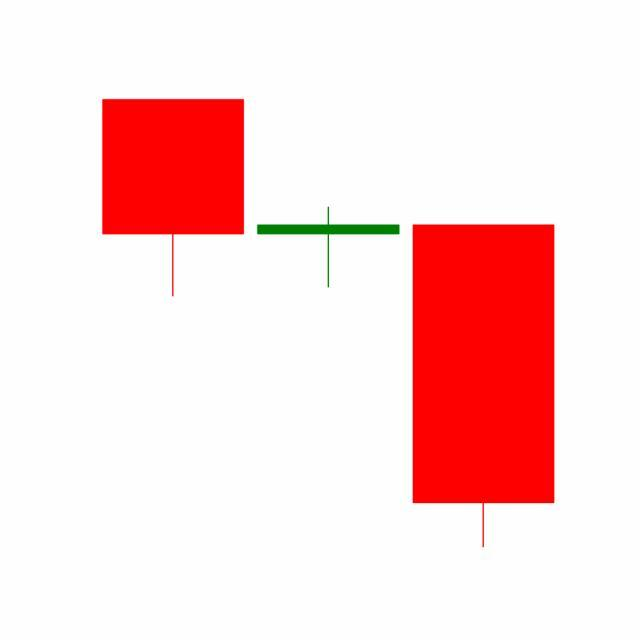Hanging Man: (250, 207, 407, 290)
